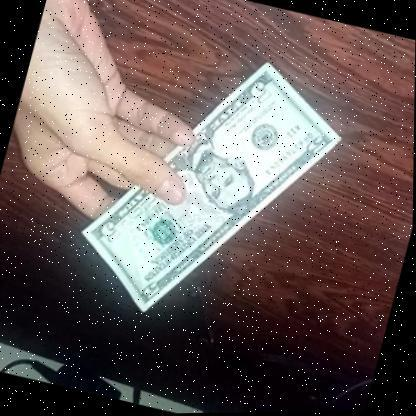dollar_front: (63, 25, 358, 352)
